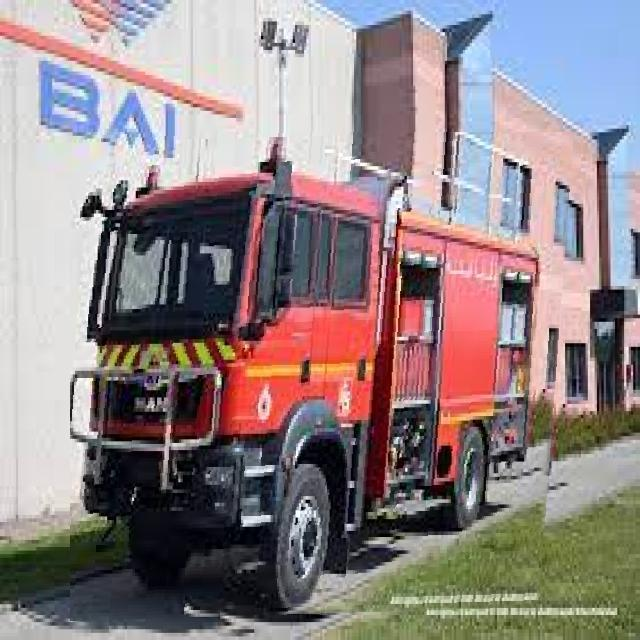Protection Civile: (70, 132, 575, 622)
